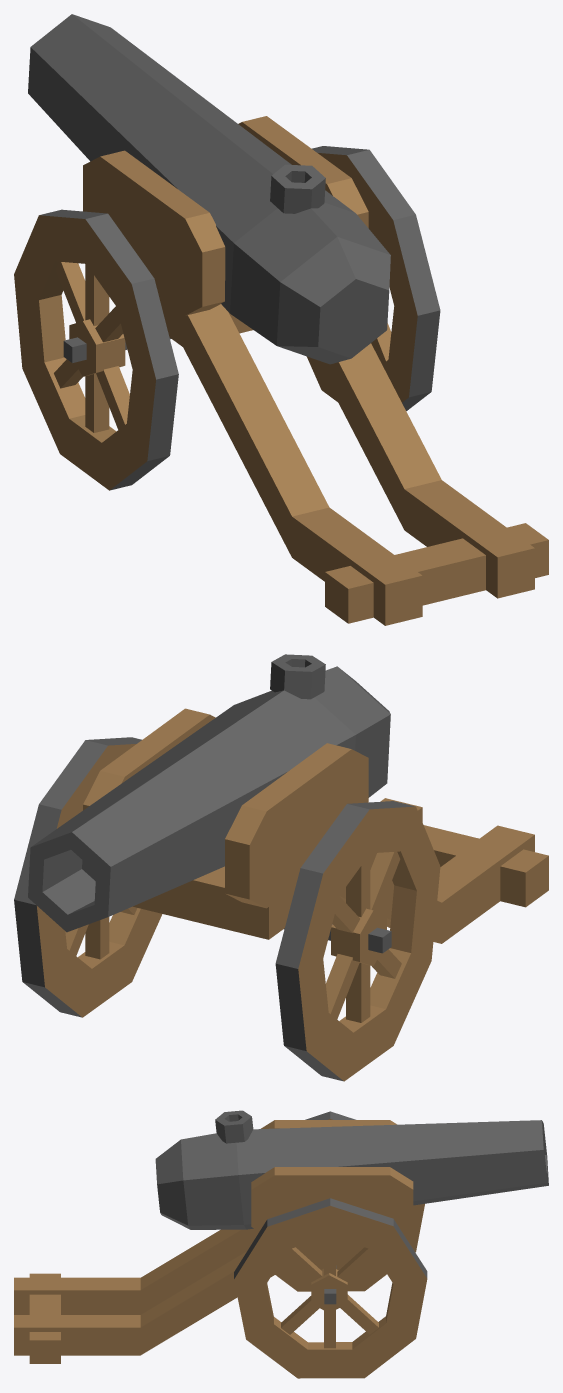
The model's file is cannon_01.fbx.
3 views of the same model, one above another, from view 1: azimuth 30°, elevation 25°; view 2: azimuth 150°, elevation 25°; view 3: azimuth 270°, elevation 25° (orthographic). The views are drawn at different scales.
Parts seen in each view (by area): view 1: cannon_01, cannon_01-2; view 2: cannon_01, cannon_01-2; view 3: cannon_01, cannon_01-2.
Part boxes in pixels (left/top/right/bottom): cannon_01: left=14, top=116, right=548, bottom=625; cannon_01-2: left=28, top=14, right=390, bottom=364; cannon_01: left=14, top=708, right=548, bottom=1081; cannon_01-2: left=28, top=654, right=390, bottom=932; cannon_01: left=14, top=1111, right=427, bottom=1378; cannon_01-2: left=155, top=1110, right=548, bottom=1229.
Size of the model in its own units: 181 by 171 by 387.
